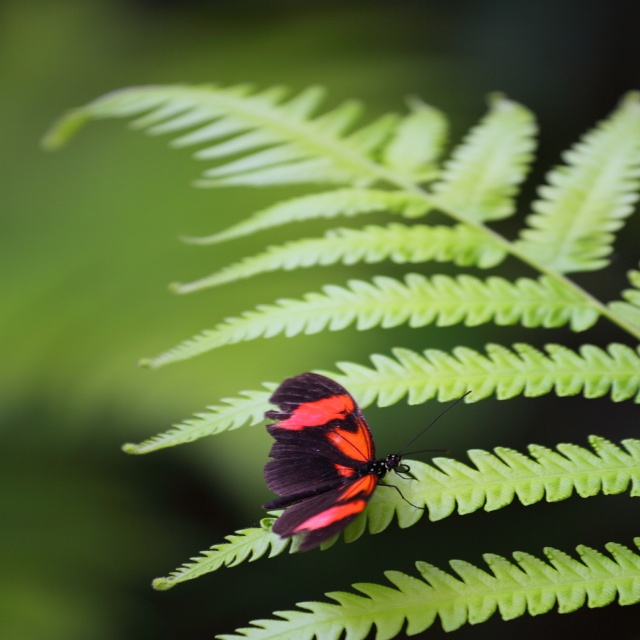Butterfly: (242, 379, 445, 558)
